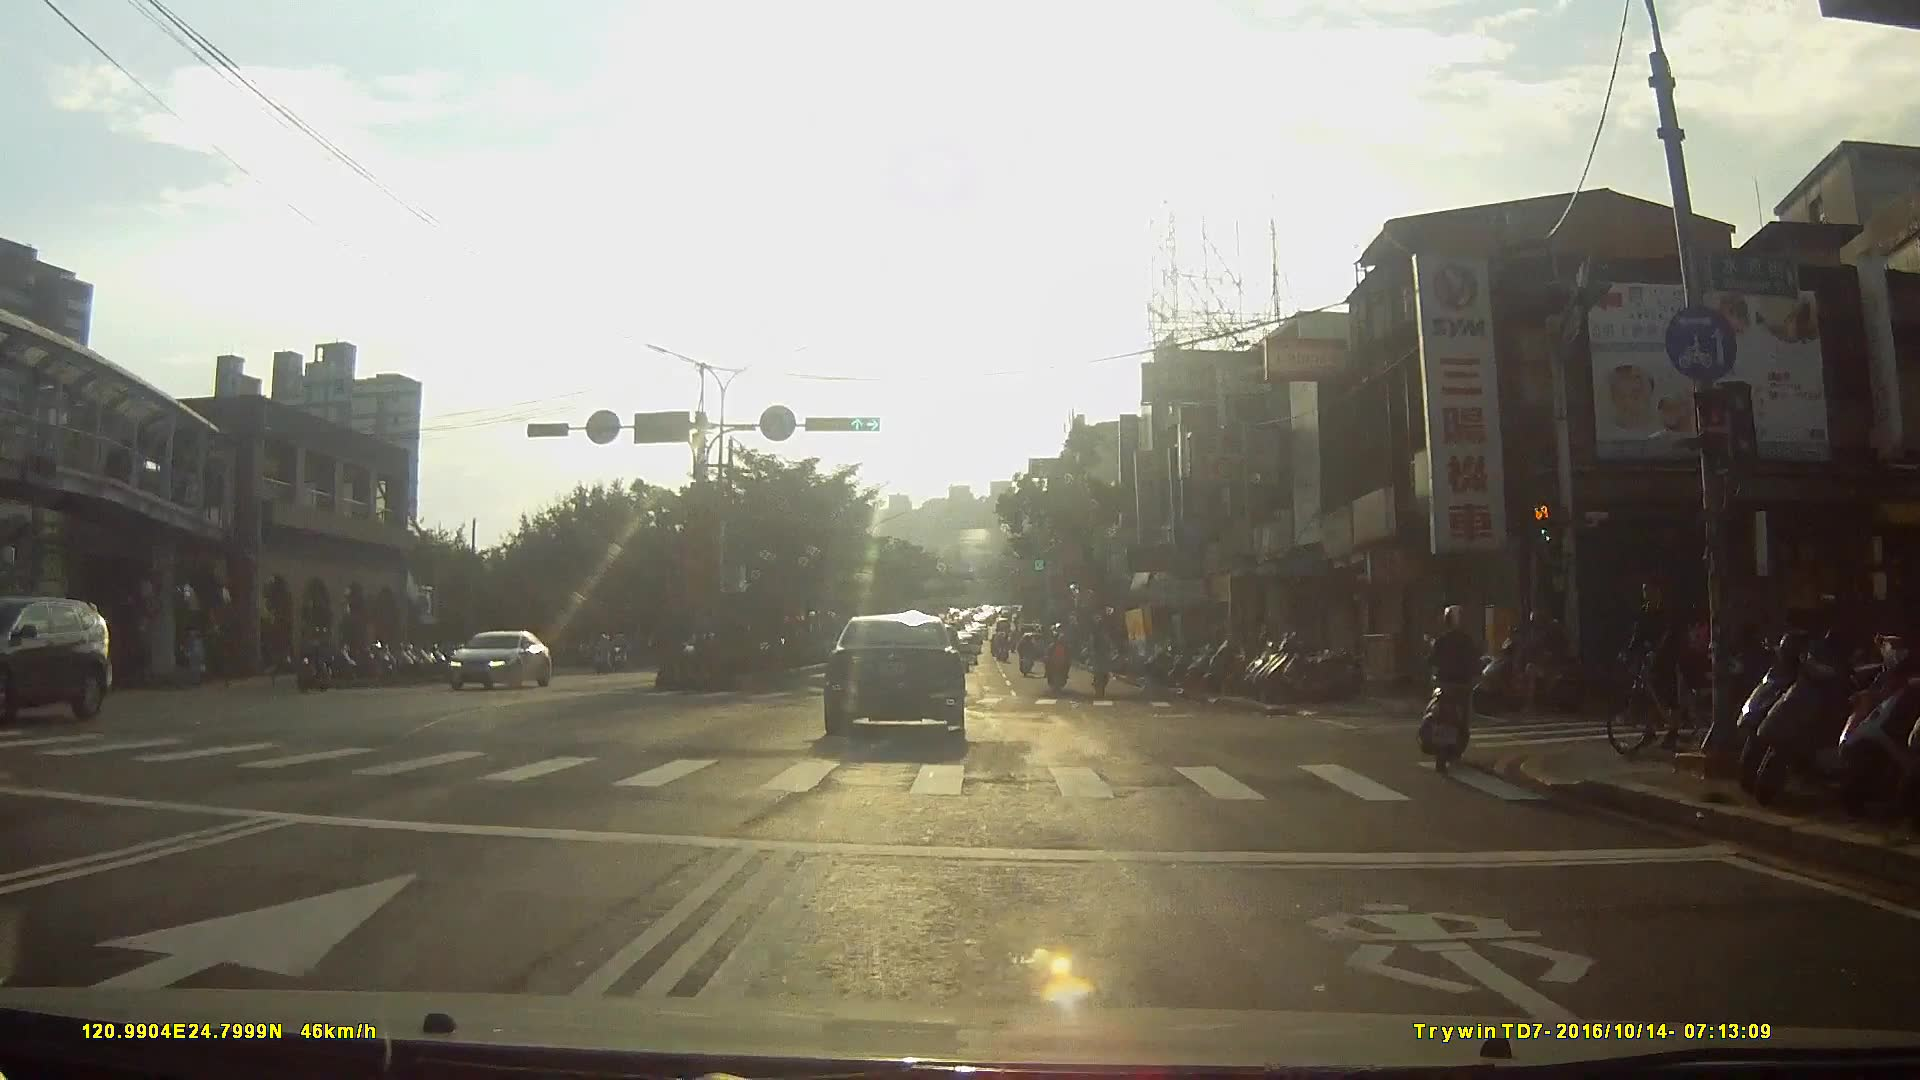rider: (1602, 569, 1734, 759), (1417, 602, 1486, 772), (294, 625, 332, 686), (1043, 631, 1076, 696), (1016, 632, 1039, 680)
vehicle: (823, 609, 983, 751), (5, 585, 119, 725), (445, 627, 551, 688)
